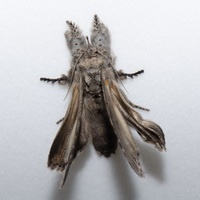insect: (41, 15, 165, 185)
